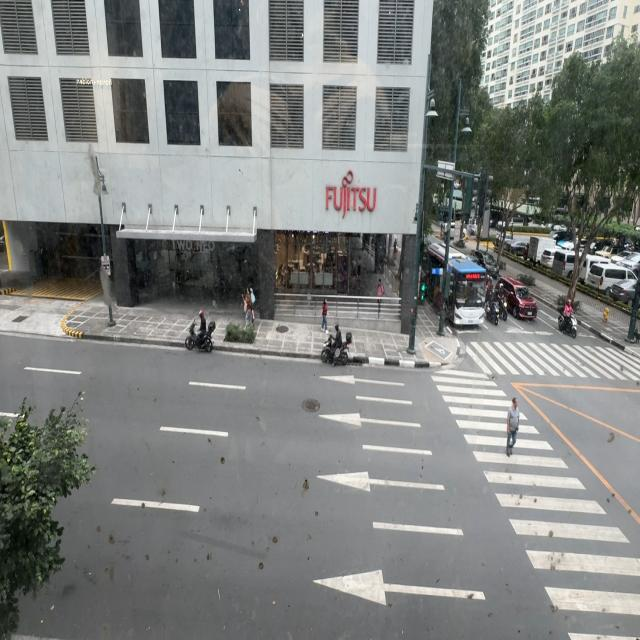crossing: (507, 396, 520, 455)
pedestrain: (319, 296, 330, 334), (243, 288, 254, 326)
